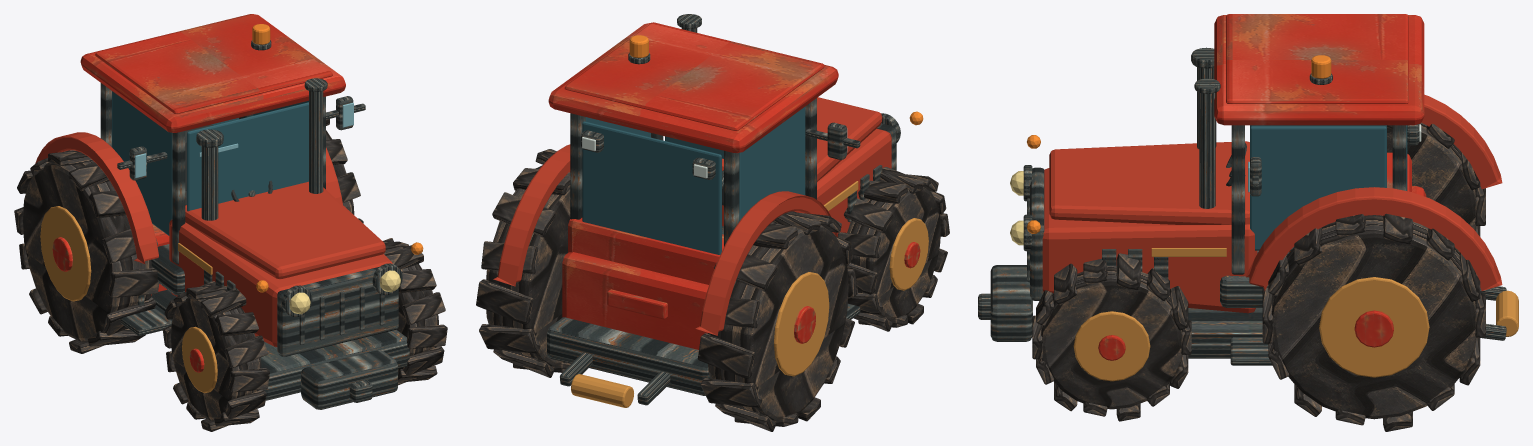
Rendered from bracken_tractor.glb.
The picture shows the model from 3 angles, left to right: view 1: azimuth 30°, elevation 25°; view 2: azimuth 150°, elevation 25°; view 3: azimuth 270°, elevation 25°; orthographic projection. The views are drawn at different scales.
Parts seen in each view (by area): view 1: RoofInset, BonnetTop, RearLeftTyre, FrontGlass, FrontNose, EngineBonnet, CabRoof, SideGlass, FrontLeftTyre, MainChassis, LeftRearFender, FrontWeight (+36 smaller); view 2: RoofInset, RearGlass, RearLeftTyre, RearTransmission, CabRoof, MainChassis, RearRightTyre, FrontLeftTyre, RearCabBase, LeftRearFender, SideGlass, RearLeftRim (+32 smaller); view 3: RearRightTyre, RoofInset, BonnetTop, SideGlass.001, FrontRightTyre, EngineBonnet, RightRearFender, RearRightRim, CabRoof, RearLeftTyre, FrontRightRim, FrontWeight (+24 smaller).
Part boxes in pixels (<box>): RoofInset: <box>95,14,332,113</box>; BonnetTop: <box>185,181,385,279</box>; RearLeftTyre: <box>22,160,151,341</box>; FrontGlass: <box>187,102,308,211</box>; FrontNose: <box>277,265,398,356</box>; EngineBonnet: <box>169,219,392,346</box>; CabRoof: <box>80,14,345,132</box>; SideGlass: <box>112,91,172,235</box>; FrontLeftTyre: <box>171,297,261,420</box>; MainChassis: <box>151,289,409,400</box>; LeftRearFender: <box>35,132,158,263</box>; FrontWeight: <box>301,350,397,409</box>; RoofInset: <box>564,22,824,130</box>; RearGlass: <box>582,121,721,254</box>; RearLeftTyre: <box>708,222,848,420</box>; RearTransmission: <box>562,234,723,349</box>; CabRoof: <box>548,23,838,152</box>; MainChassis: <box>547,317,710,395</box>; RearRightTyre: <box>486,165,570,366</box>; FrontLeftTyre: <box>847,187,940,320</box>; RearCabBase: <box>568,218,723,284</box>; LeftRearFender: <box>695,191,837,335</box>; SideGlass: <box>739,107,805,221</box>; RearLeftRim: <box>774,272,829,376</box>; RearRightTyre: <box>1271,215,1476,419</box>; RoofInset: <box>1226,14,1408,103</box>; BonnetTop: <box>1049,141,1249,224</box>; SideGlass.001: <box>1250,126,1386,250</box>; FrontRightTyre: <box>1041,265,1182,409</box>; EngineBonnet: <box>1042,168,1257,313</box>; RightRearFender: <box>1245,187,1502,290</box>; RearRightRim: <box>1319,277,1429,377</box>; CabRoof: <box>1214,15,1424,125</box>; RearLeftTyre: <box>1387,122,1476,252</box>; FrontRightRim: <box>1073,311,1150,381</box>; FrontWeight: <box>990,265,1032,341</box>.
Size of the model in its own units: 3.47 by 3.81 by 5.61.
11 materials, 3 textured.
